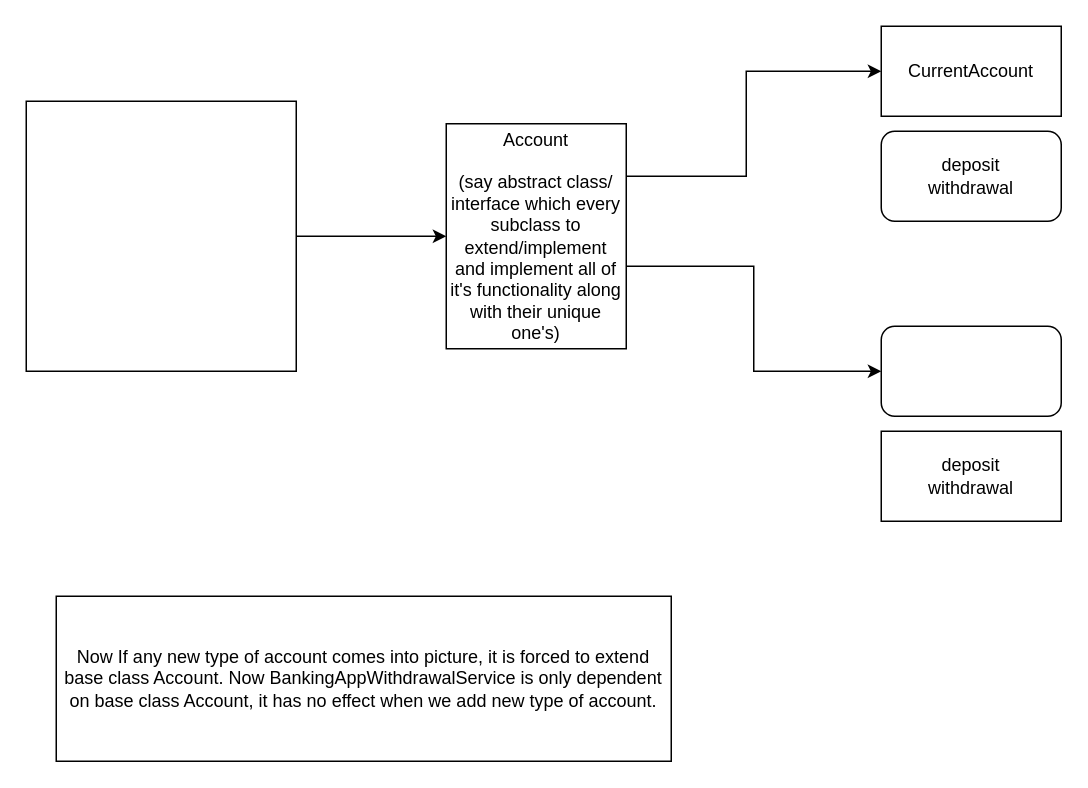
Some shapes in this 1088 by 788 pixel diagram are drawn without their labels. The shapes that lost their labels are listed below. From the top down, each one's centre as x and y in pixels, then its label:
At (x=160, y=235): "BankingAppWithdrawalService".
At (x=970, y=370): "savingsAccount".
